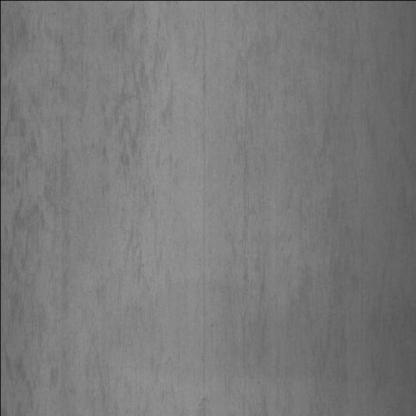silk_spot: (5, 0, 187, 405), (200, 5, 344, 400)
